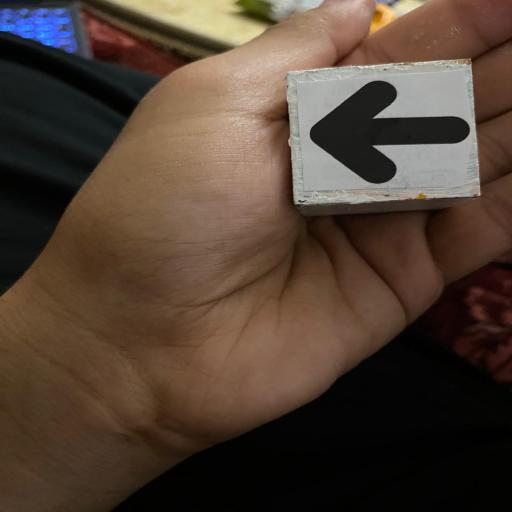Back: (281, 55, 484, 216)
